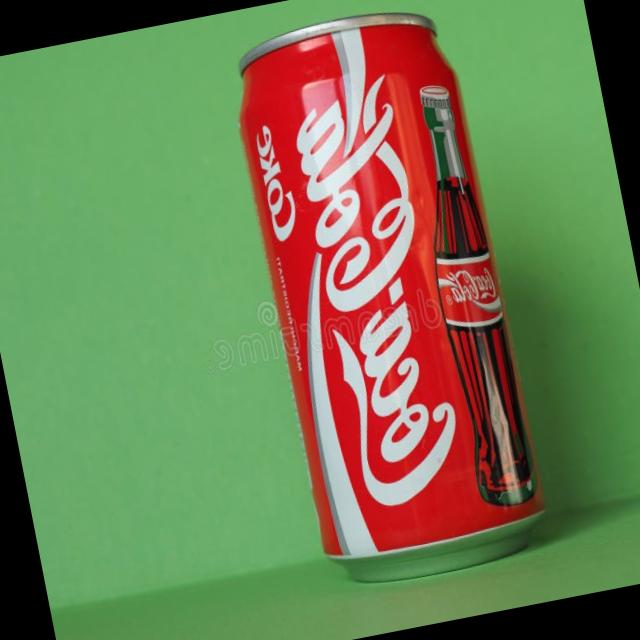cocacola: (213, 4, 558, 588)
